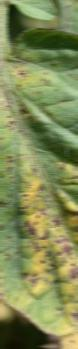Tomato leaf bacterial spot: (0, 17, 78, 349)
